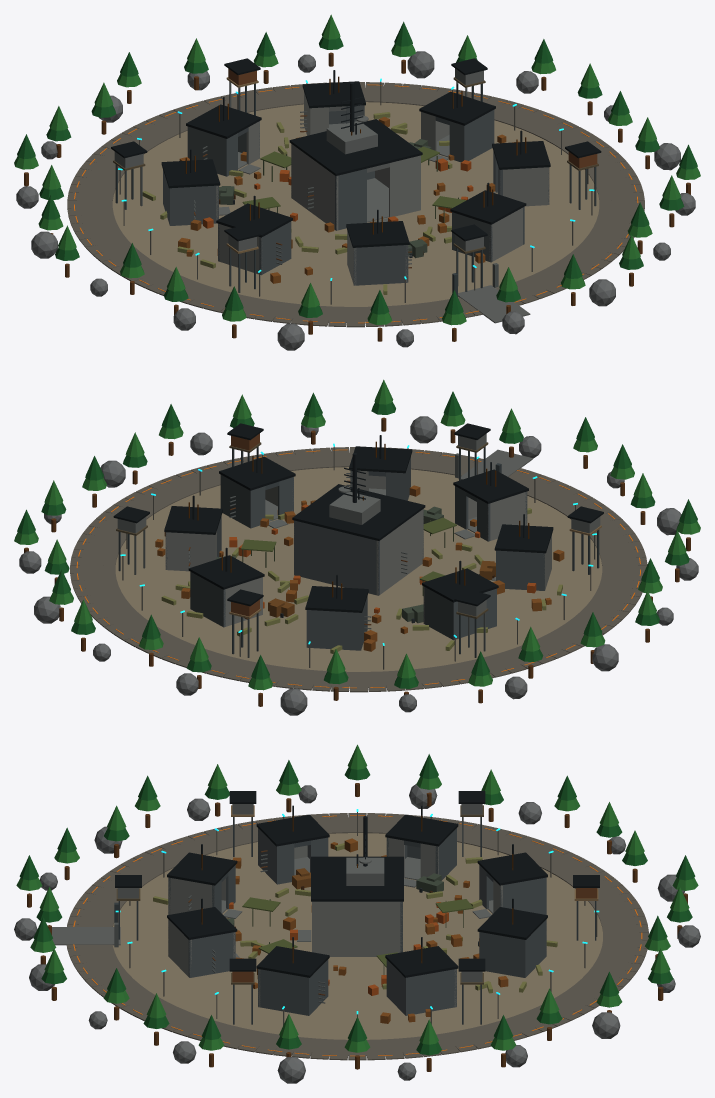
Rendered from Ruins.glb.
3 renders of one model, top to bottom at view 1: azimuth 30°, elevation 25°; view 2: azimuth 150°, elevation 25°; view 3: azimuth 270°, elevation 25°, orthographic.
Parts seen in each view (by area): view 1: Compound_Pad, HQ_Roof, HQ_Side-1, HQ_Rear, TreeA0, TreeB0, Rock0, Crate0, Canopy0, HQ_Ladder3, YellowEdge_0; view 2: Compound_Pad, HQ_Rear, HQ_Roof, HQ_Side-1, TreeA0, TreeB0, Rock0, Crate0, Canopy0, HQ_Ladder3, YellowEdge_0; view 3: Compound_Pad, HQ_Roof, HQ_Rear, HQ_Side-1, TreeA0, TreeB0, Rock0, Crate0, Canopy0, HQ_Ladder3, YellowEdge_0.
Part boxes in pixels (<box>): Compound_Pad: <box>67,81,644,327</box>; HQ_Roof: <box>111,58,601,247</box>; HQ_Side-1: <box>114,68,549,323</box>; HQ_Rear: <box>113,77,598,296</box>; TreeA0: <box>14,14,700,325</box>; TreeB0: <box>17,21,697,317</box>; Rock0: <box>16,51,695,350</box>; Crate0: <box>24,52,690,341</box>; Canopy0: <box>142,112,465,294</box>; HQ_Ladder3: <box>194,68,597,268</box>; YellowEdge_0: <box>74,76,638,323</box>; Compound_Pad: <box>70,446,647,692</box>; HQ_Rear: <box>116,442,599,657</box>; HQ_Roof: <box>113,423,603,612</box>; HQ_Side-1: <box>117,433,601,657</box>; TreeA0: <box>14,379,700,690</box>; TreeB0: <box>17,391,697,688</box>; Rock0: <box>19,416,698,715</box>; Crate0: <box>24,417,690,706</box>; Canopy0: <box>161,508,562,653</box>; HQ_Ladder3: <box>188,433,536,625</box>; YellowEdge_0: <box>76,441,640,688</box>; Compound_Pad: <box>66,812,648,1060</box>; HQ_Roof: <box>115,791,599,977</box>; HQ_Rear: <box>114,805,596,1024</box>; HQ_Side-1: <box>52,804,598,1006</box>; TreeA0: <box>16,744,698,1052</box>; TreeB0: <box>19,754,695,1055</box>; Rock0: <box>14,784,700,1083</box>; Crate0: <box>27,783,687,1071</box>; Canopy0: <box>153,843,557,993</box>; HQ_Ladder3: <box>188,850,597,995</box>; YellowEdge_0: <box>73,815,642,1056</box>.
Size of the model in its own units: 87.22 by 18 by 86.97.
